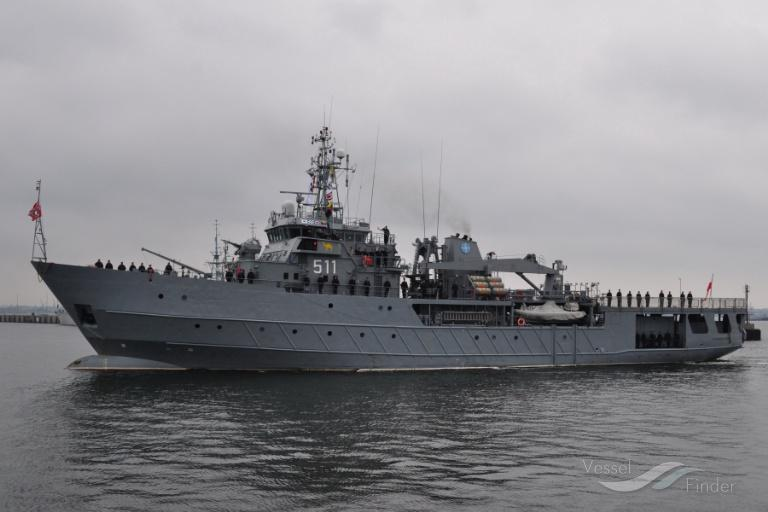OCR: (304, 256, 342, 280)
